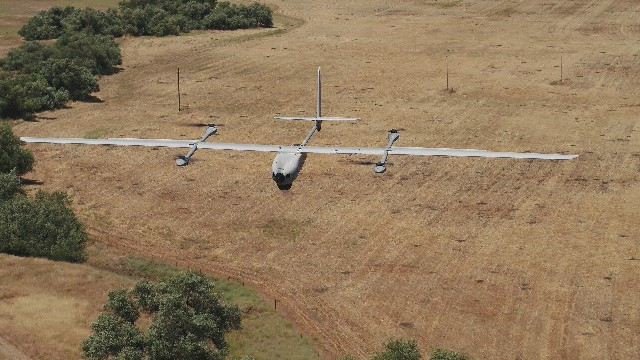maybay_khongnguoilai: (12, 69, 582, 186)
